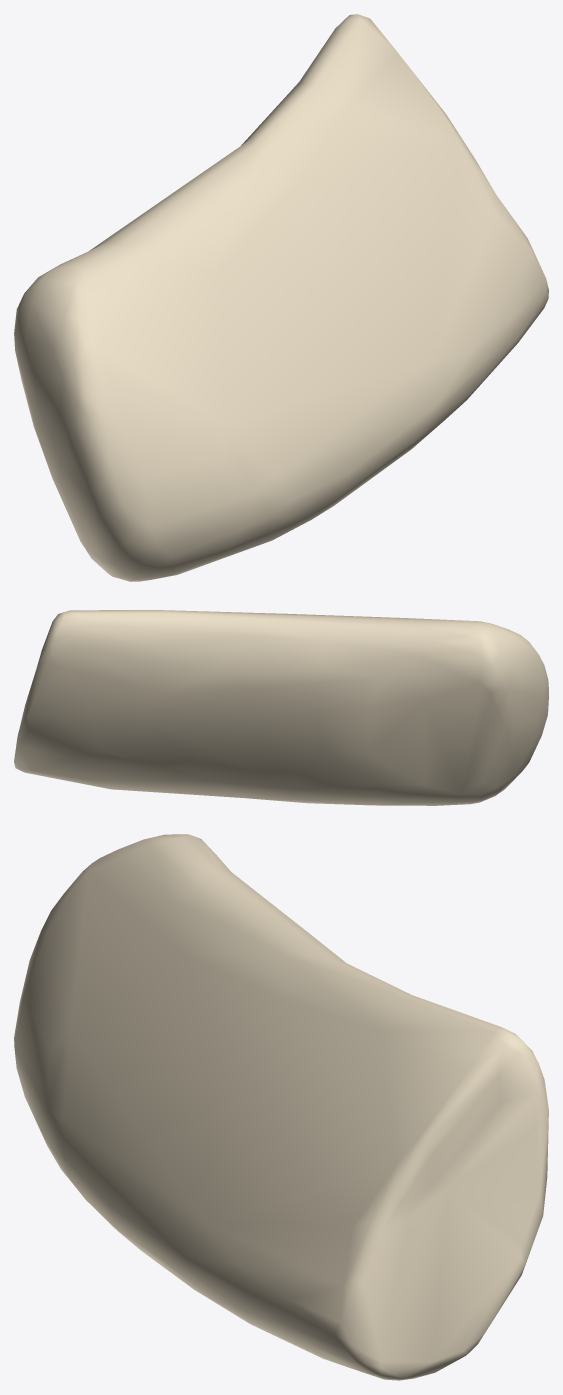
The model's file is costal-cartilage-of-second-rib-l.glb.
3 views of the same model, one above another, from view 1: azimuth 30°, elevation 25°; view 2: azimuth 150°, elevation 25°; view 3: azimuth 270°, elevation 25° (orthographic). The views are drawn at different scales.
Parts seen in each view (by area): view 1: Costal cartilage of second rib.l; view 2: Costal cartilage of second rib.l; view 3: Costal cartilage of second rib.l.
Part boxes in pixels (bbox=[...]): Costal cartilage of second rib.l: bbox=[14, 14, 548, 581]; Costal cartilage of second rib.l: bbox=[14, 610, 548, 805]; Costal cartilage of second rib.l: bbox=[14, 834, 548, 1380].
Bounding box in the file's own units: 0.0334 × 0.0168 × 0.0245.
